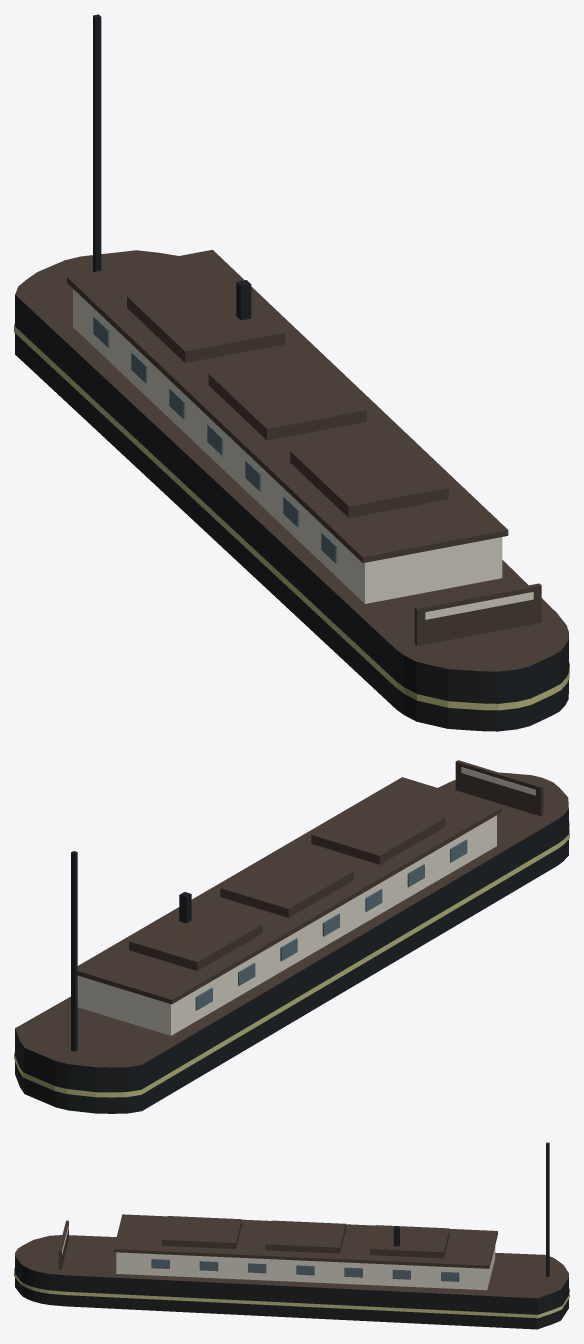
The model's file is houseboat-museum.glb.
The picture shows the model from 3 angles, top to bottom: view 1: azimuth 30°, elevation 25°; view 2: azimuth 150°, elevation 25°; view 3: azimuth 270°, elevation 25°; orthographic projection. The views are drawn at different scales.
Visible parts, largest first — view 1: houseboat-museum; view 2: houseboat-museum; view 3: houseboat-museum.
Boxes of the visible parts, left/top/right/bottom form: houseboat-museum: left=14, top=14, right=569, bottom=731; houseboat-museum: left=14, top=760, right=569, bottom=1113; houseboat-museum: left=14, top=1142, right=569, bottom=1329.
Size of the model in its own units: 6.34 by 7.65 by 23.47.
